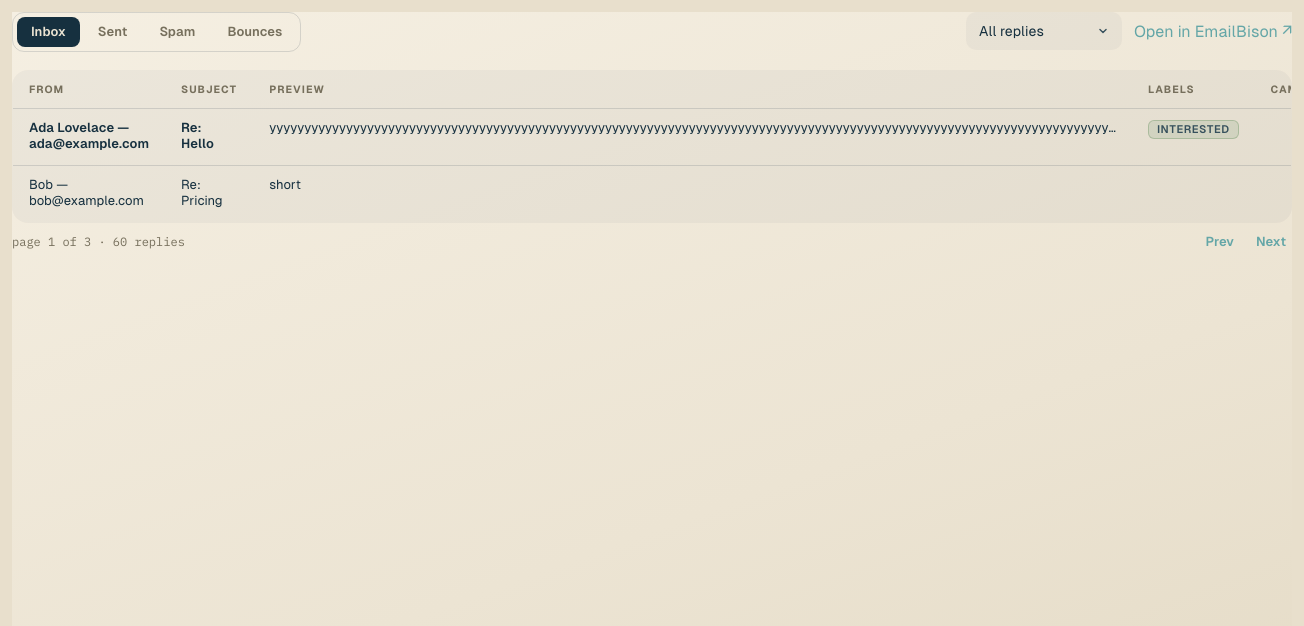
RepliesList (Master Inbox) › a failed folder load keeps loaded rows visible and Retry refetches
The width and height of the screenshot is (1304, 626).
Check: the text "Ada Lovelace — ada@example.com" is shown, box left=29, top=120, right=149, bottom=151
Step 1. Click the tab "Sent" → (113, 32), box left=84, top=17, right=141, bottom=47
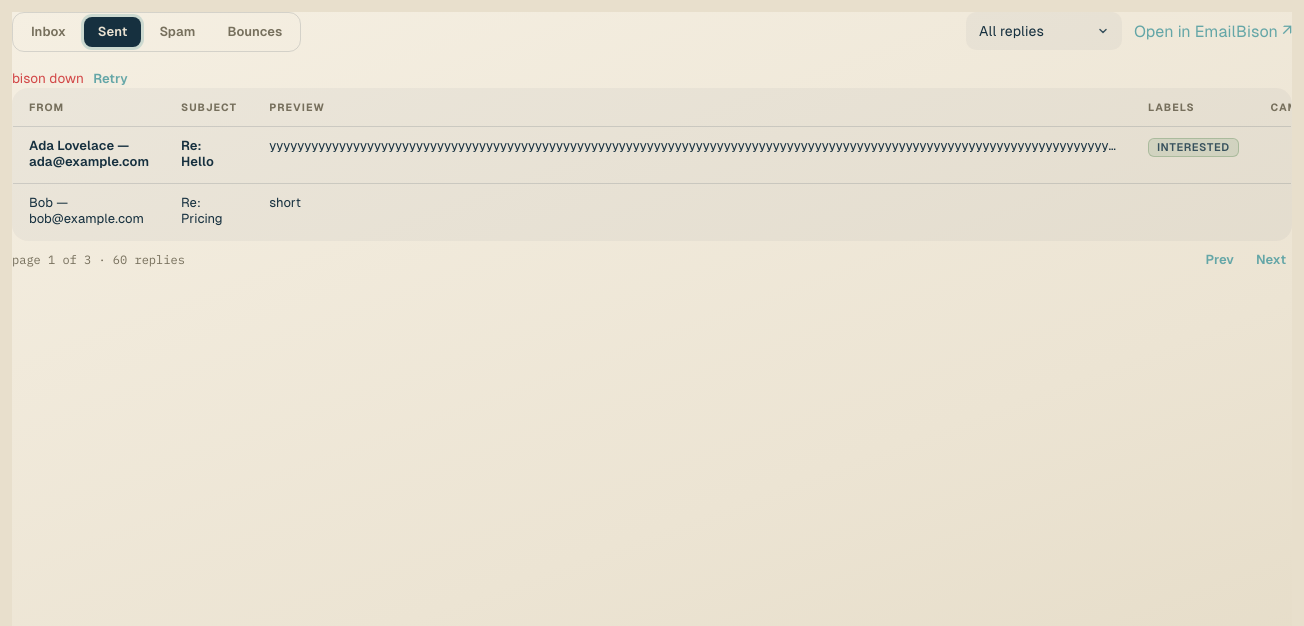
Check: the text "Ada Lovelace — ada@example.com" is shown, box left=29, top=138, right=149, bottom=169
Check: the text "bison down Retry" is shown, box left=12, top=70, right=134, bottom=88
Step 2. Click the button "Retry" → (110, 79), box left=87, top=70, right=134, bottom=88
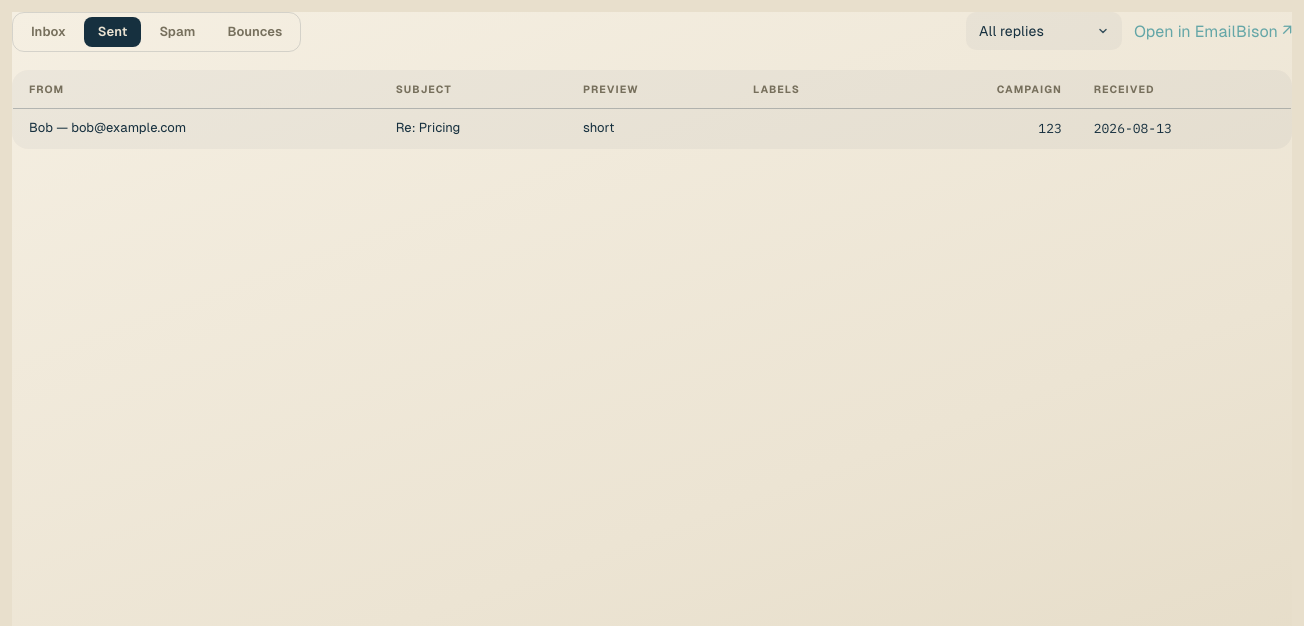
Check: the text "bison down" is gone
